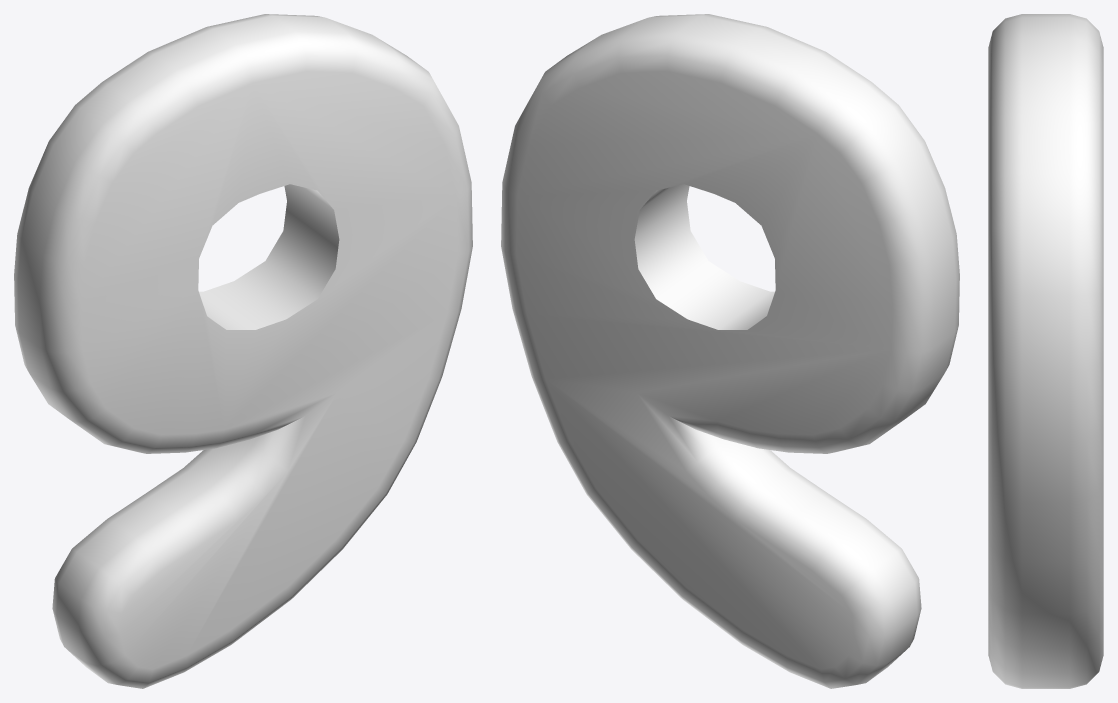
Rendered from NumberNine 2.fbx.
3 views of the same model, side by side, from view 1: azimuth 30°, elevation 25°; view 2: azimuth 150°, elevation 25°; view 3: azimuth 270°, elevation 25° (orthographic). The views are drawn at different scales.
Parts seen in each view (by area): view 1: Vert.021; view 2: Vert.021; view 3: Vert.021.
Boxes of the visible parts, x1,y1,x2,y2 form: Vert.021: [14, 14, 472, 688]; Vert.021: [501, 14, 959, 688]; Vert.021: [988, 14, 1103, 688].
Size of the model in its own units: 330 by 454 by 69.56.
